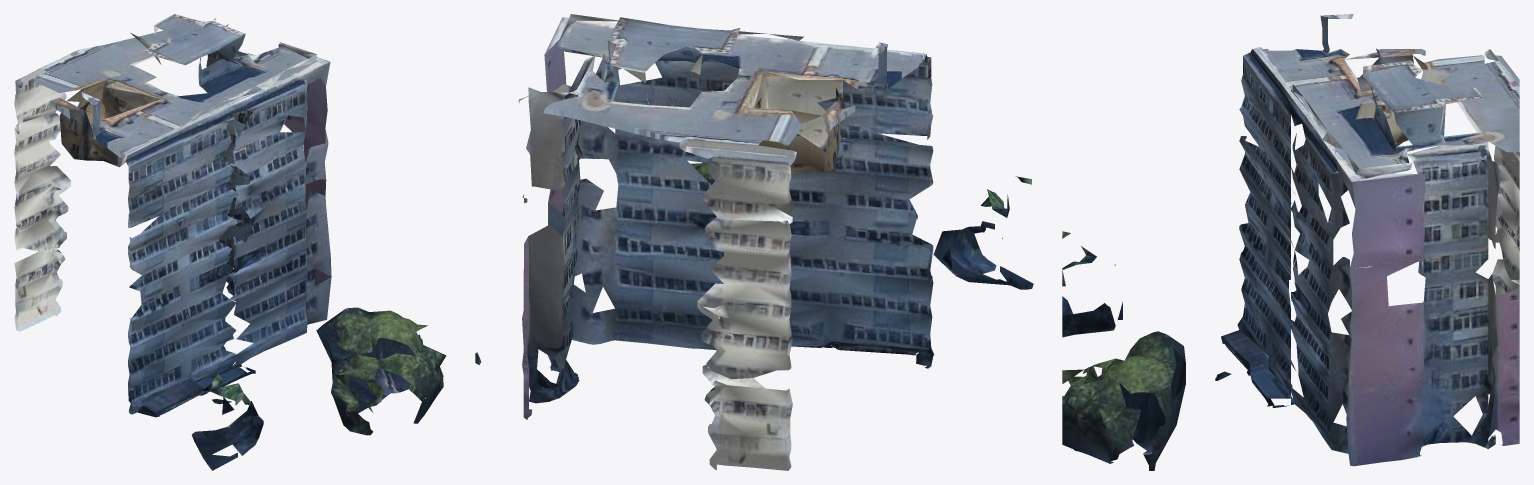
3 renders of one model, left to right at view 1: azimuth 30°, elevation 25°; view 2: azimuth 150°, elevation 25°; view 3: azimuth 270°, elevation 25°, orthographic. The views are drawn at different scales.
Visible parts, largest first — view 1: 30436272704361617514_0; view 2: 30436272704361617514_0; view 3: 30436272704361617514_0.
Boxes of the visible parts, <box> form: 30436272704361617514_0: <box>14,14,446,470</box>; 30436272704361617514_0: <box>475,14,1033,470</box>; 30436272704361617514_0: <box>1062,14,1519,470</box>.
Size of the model in its own units: 27.46 by 30.05 by 38.26.
1 material, 1 textured.
